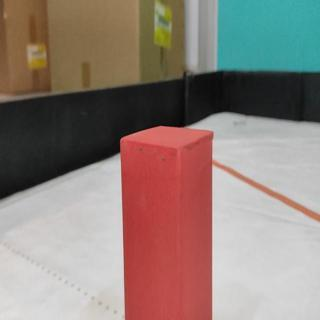redbox: (121, 125, 212, 320)
